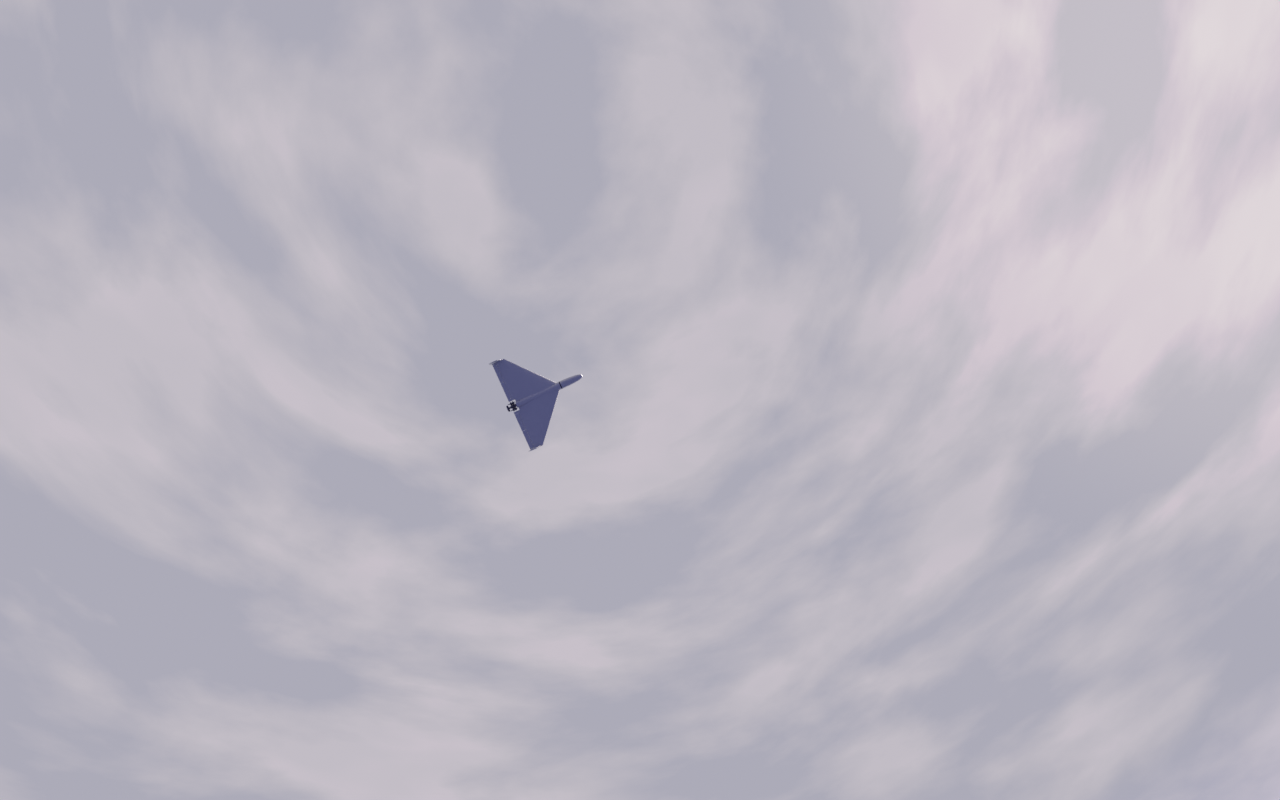shahed: (489, 359, 585, 454)
